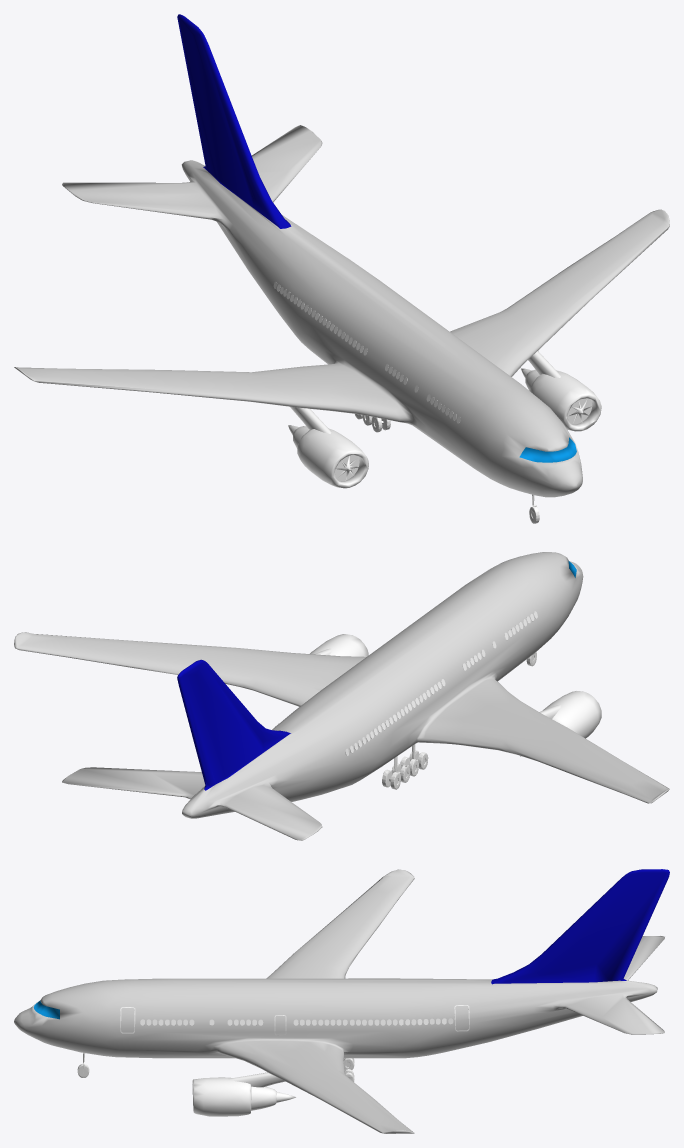
File: AirbusA310Small.dae
3 renders of one model, top to bottom at view 1: azimuth 30°, elevation 25°; view 2: azimuth 150°, elevation 25°; view 3: azimuth 270°, elevation 25°, orthographic. The views are drawn at different scales.
Parts seen in each view (by area): view 1: Ventanas; view 2: Ventanas; view 3: Ventanas.
Part boxes in pixels (x1,y1,x2,y2): Ventanas: (14,14,669,523); Ventanas: (14,552,669,840); Ventanas: (14,869,669,1133).
Size of the model in its own units: 17.37 by 18.46 by 6.45.
